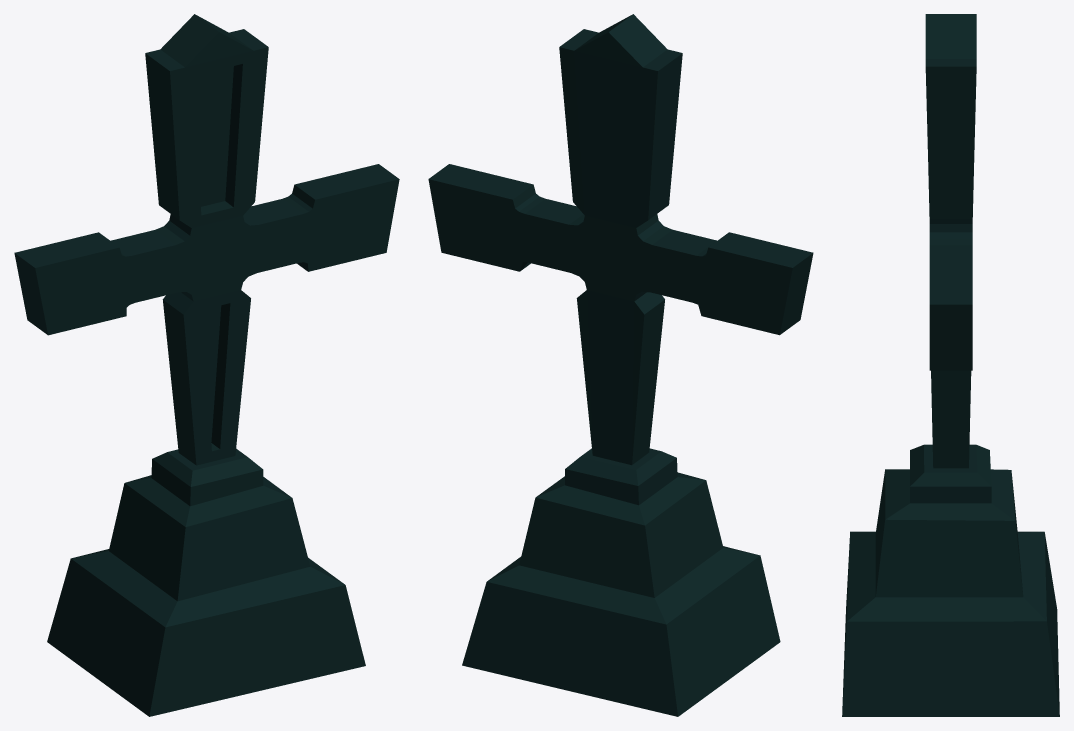
File: cross_015_stone_0_lev1.glb
3 renders of one model, left to right at view 1: azimuth 30°, elevation 25°; view 2: azimuth 150°, elevation 25°; view 3: azimuth 270°, elevation 25°, orthographic. The views are drawn at different scales.
Visible parts, largest first — view 1: cross_015_stone_0_lev1; view 2: cross_015_stone_0_lev1; view 3: cross_015_stone_0_lev1.
Part boxes in pixels (x1=…): cross_015_stone_0_lev1: x1=14, y1=14, x2=399, y2=716; cross_015_stone_0_lev1: x1=428, y1=14, x2=813, y2=716; cross_015_stone_0_lev1: x1=842, y1=14, x2=1059, y2=716.
Size of the model in its own units: 0.5165 by 0.8534 by 0.2593.
